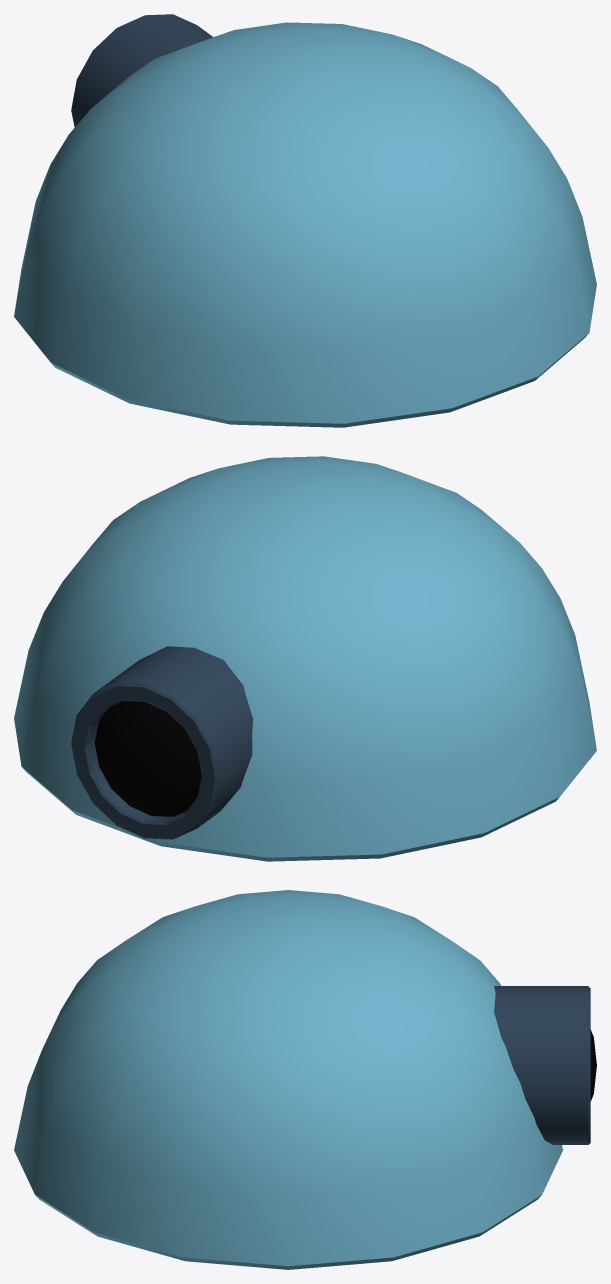
File: robot_head.glb
The picture shows the model from 3 angles, top to bottom: view 1: azimuth 30°, elevation 25°; view 2: azimuth 150°, elevation 25°; view 3: azimuth 270°, elevation 25°; orthographic projection. The views are drawn at different scales.
Visible parts, largest first — view 1: Head; view 2: Head; view 3: Head.
Part boxes in pixels (x1,y1,x2,y2): Head: (14,14,596,427); Head: (14,456,596,861); Head: (14,890,596,1269).
Bounding box in the file's own units: 0.2075 × 0.1092 × 0.2203.
